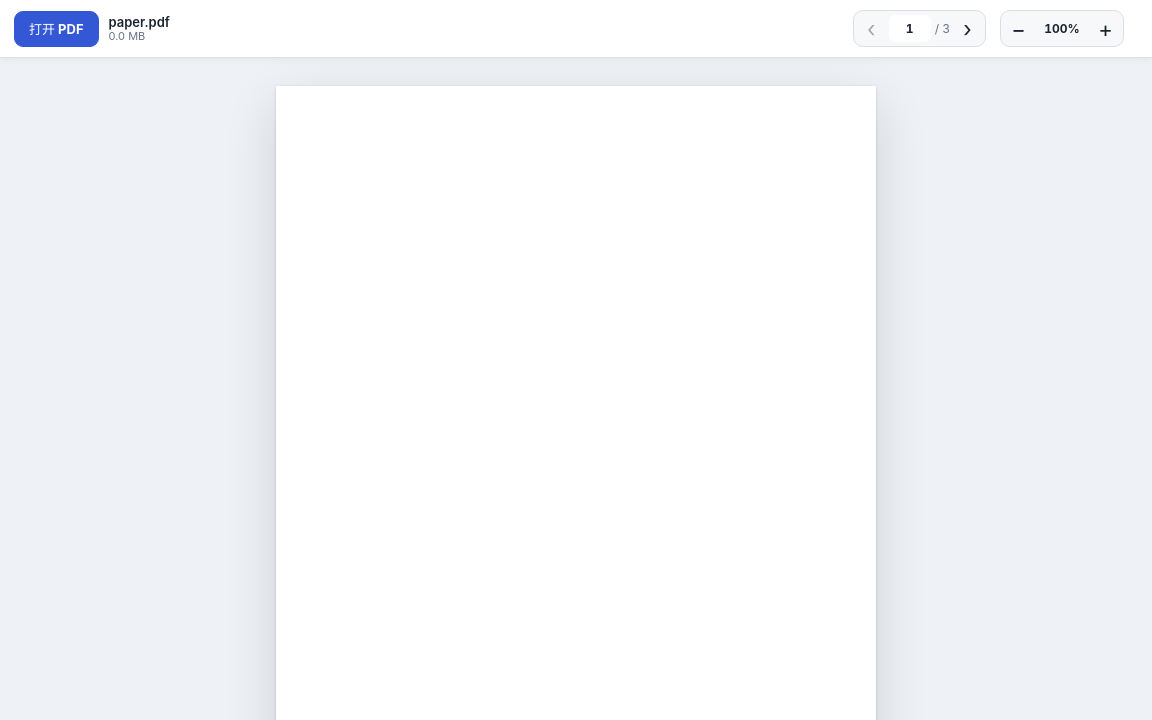
Test: PdfReader › 支持前后翻页、输入页码和缩放
This screenshot has width=1152, height=720.
Click the button named "下一页" at (968, 28), box [952,13,983,44]
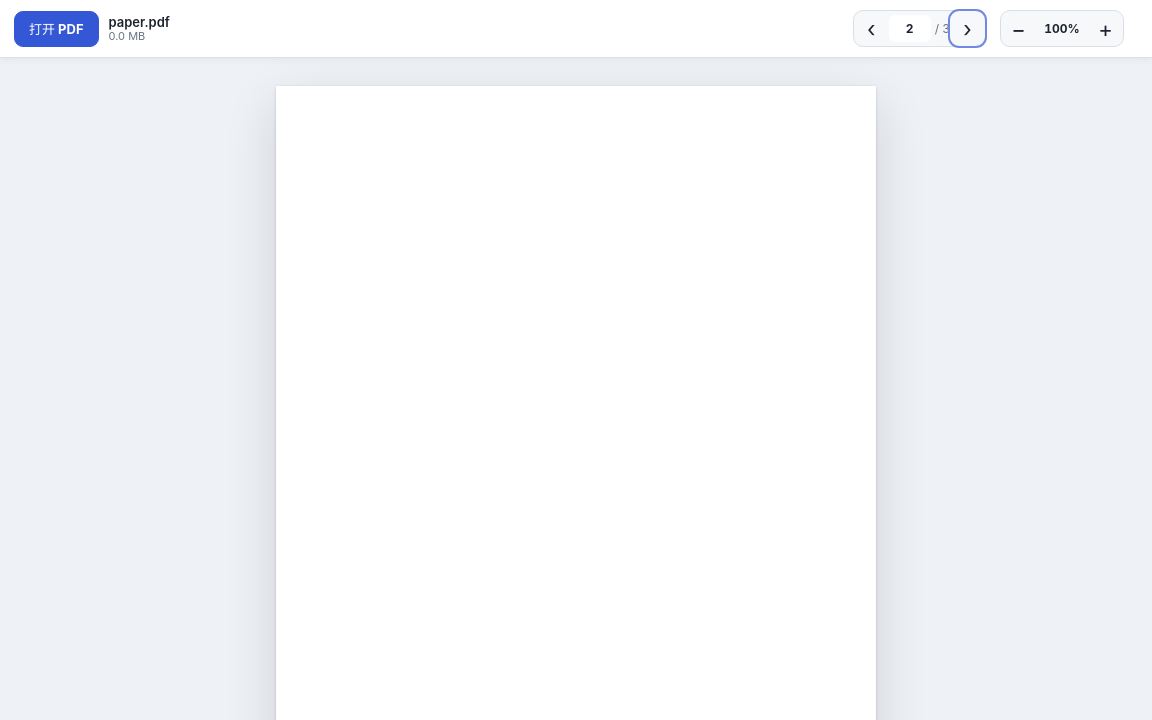
Replace the text in the number field with "3" at (910, 28), box [889,15,931,42]
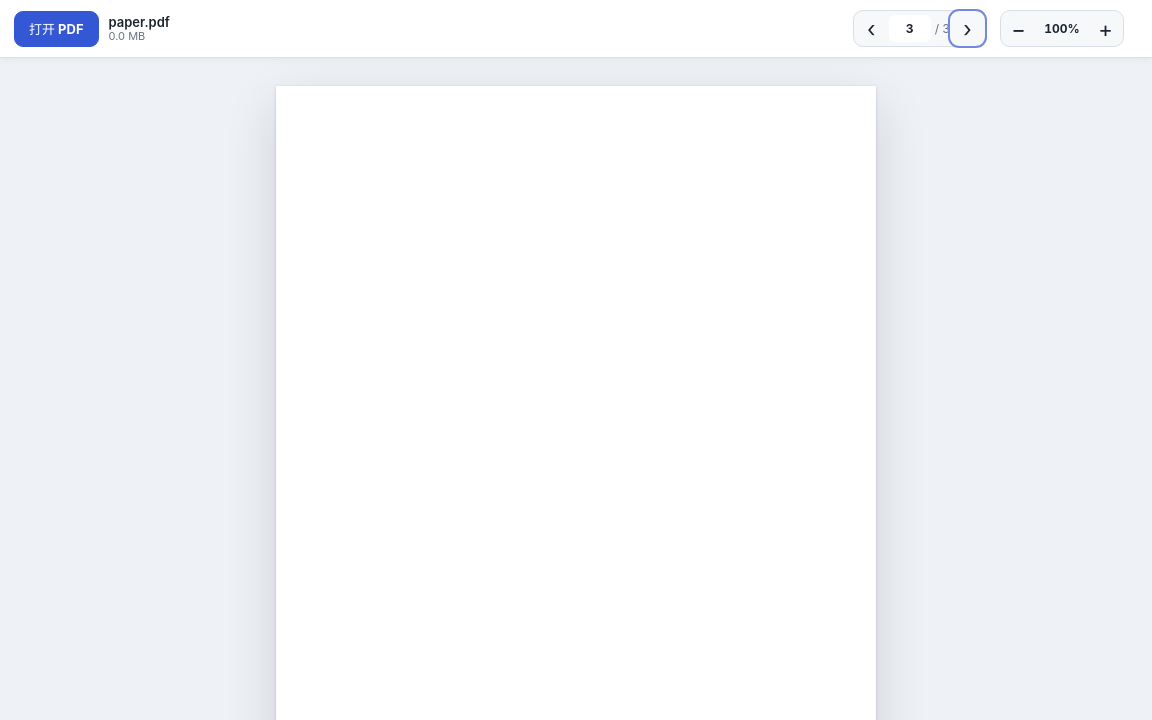
Press Enter in the number field, box [889,15,931,42]
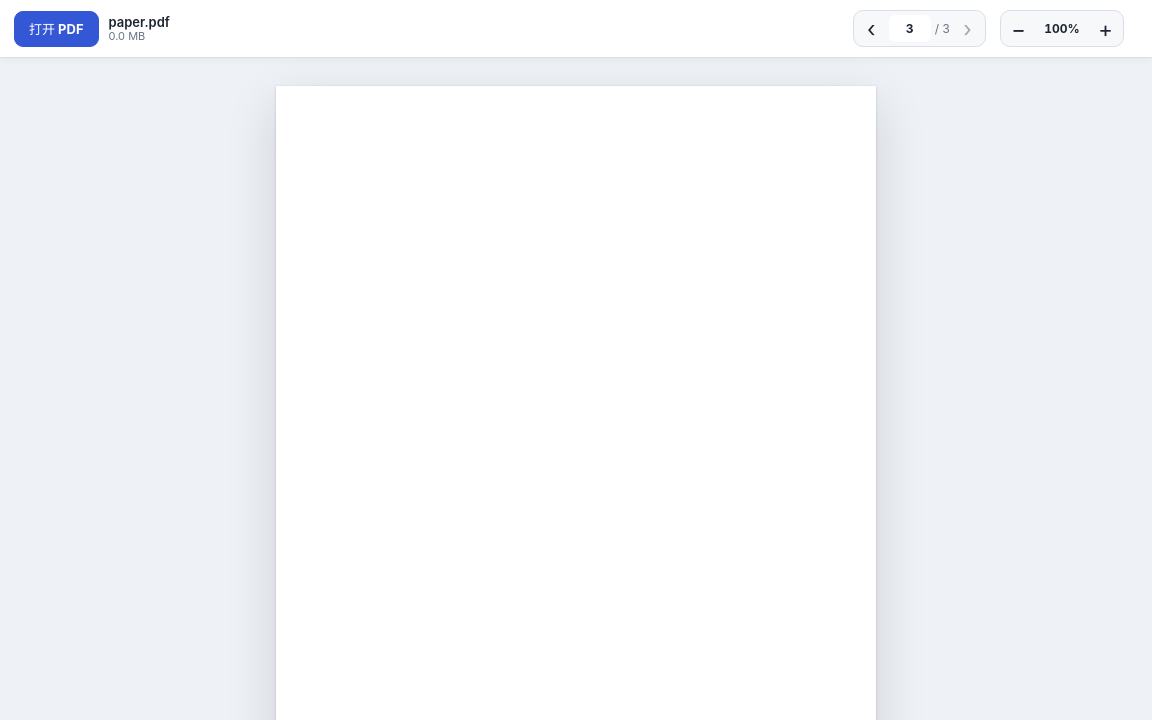
Click the button named "放大" at (1106, 28), box [1090,13,1121,44]
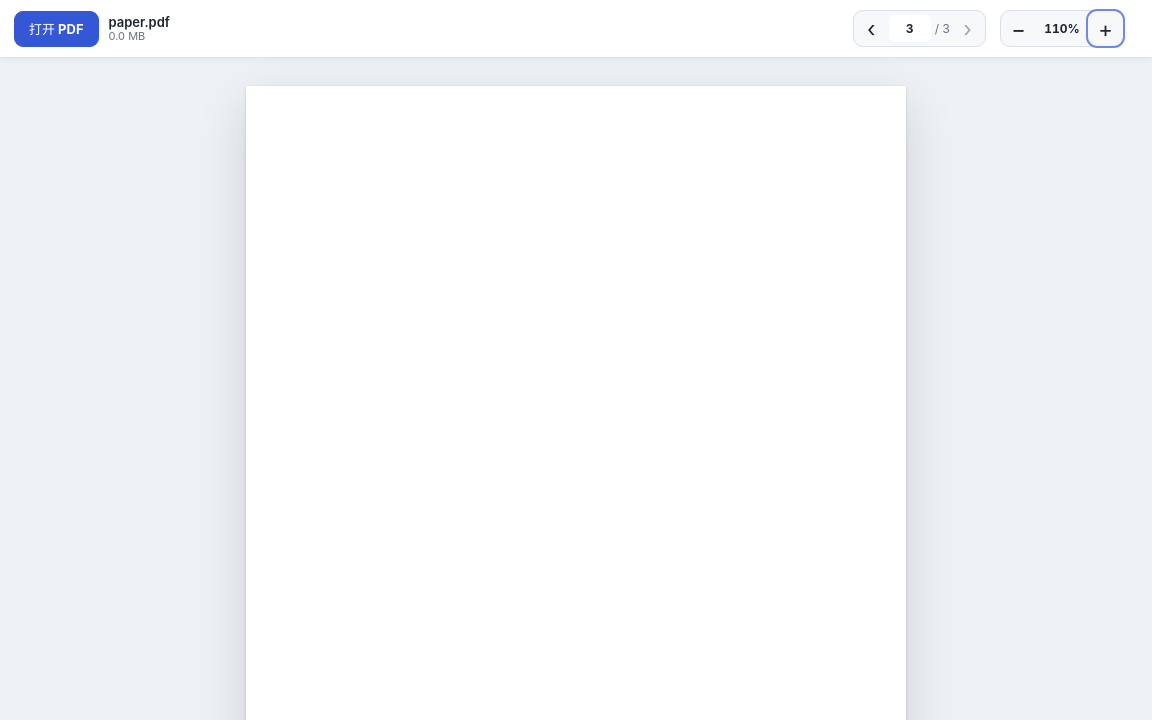
Expected: the button "110%" is shown, [1036,14,1088,43]
